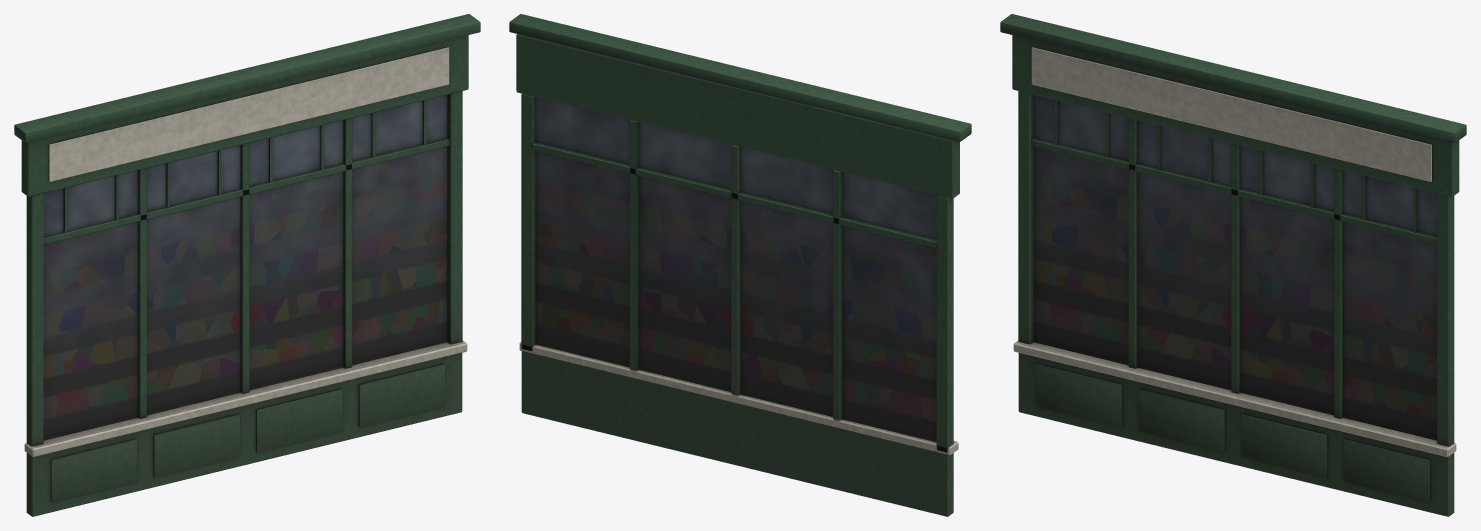
File: shop_town_40_green.glb
The picture shows the model from 3 angles, left to right: view 1: azimuth 30°, elevation 25°; view 2: azimuth 150°, elevation 25°; view 3: azimuth 330°, elevation 25°; orthographic projection.
Visible parts, largest first — view 1: shop_town_40_green; view 2: shop_town_40_green; view 3: shop_town_40_green.
Boxes of the visible parts, bbox=[...] form: shop_town_40_green: bbox=[14, 14, 480, 516]; shop_town_40_green: bbox=[509, 14, 971, 516]; shop_town_40_green: bbox=[1000, 14, 1466, 516].
Bounding box in the file's own units: 4.44 × 3.65 × 0.2.
1 material, 1 textured.
